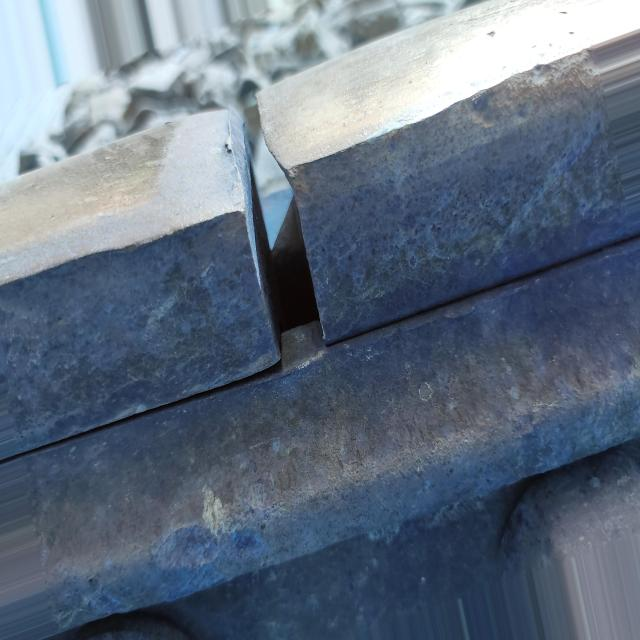crack: (176, 71, 362, 406)
